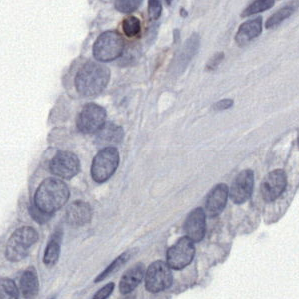Lymphocyte: (118, 12, 145, 38)
